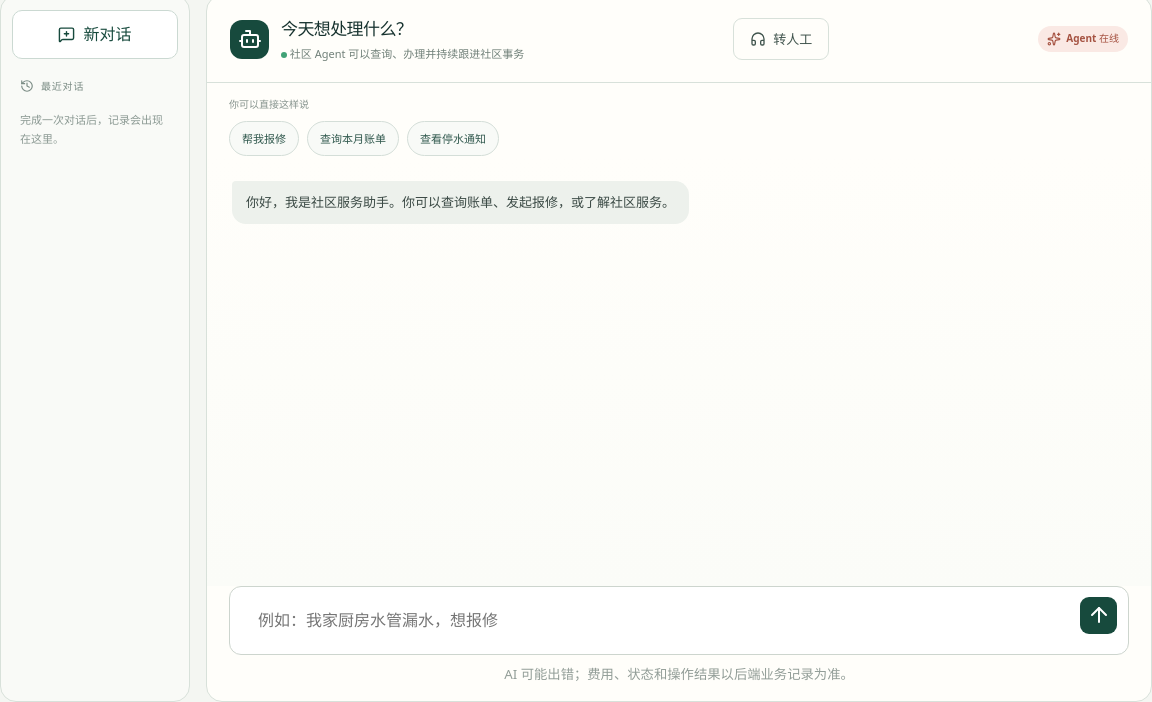
Test: Agent home flow › guides a new announcement through title, body, and audience
(page scrolled)
In the field named "发送给社区智能体": (658, 620) [246, 597, 1070, 644], type "我要发布公告"
Click the button named "发送": (1098, 615) [1080, 597, 1117, 634]
(page scrolled)
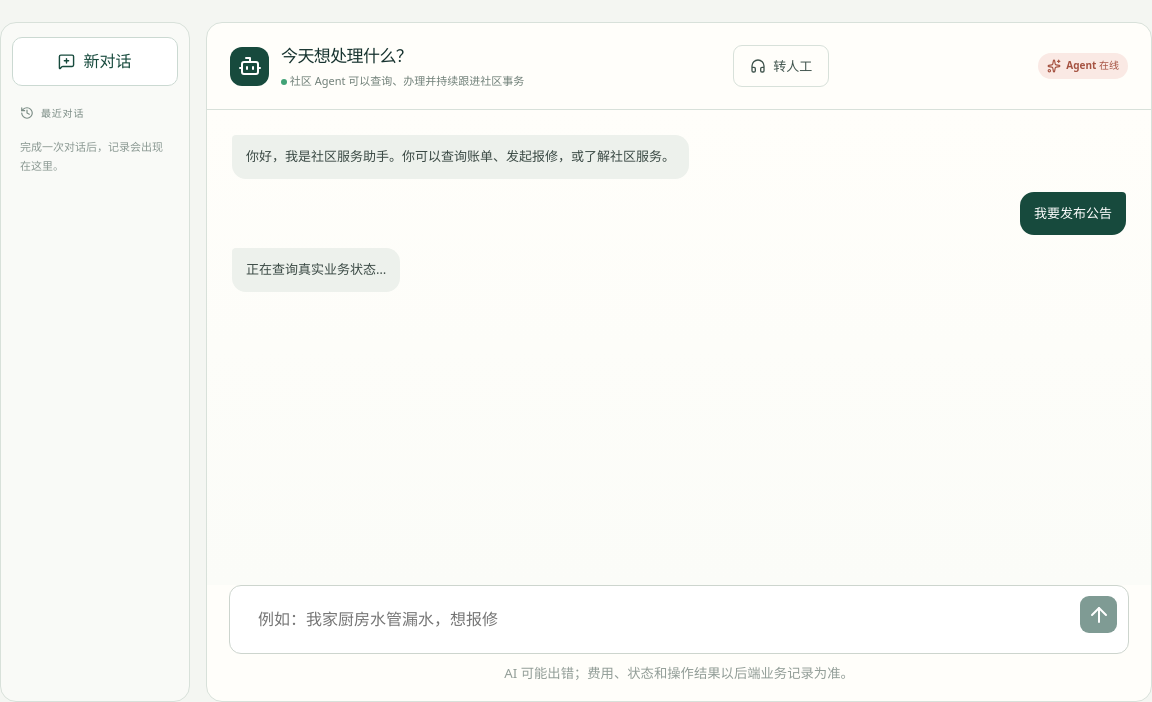
In the field named "发送给社区智能体": (658, 620) [246, 596, 1070, 643], type "1栋临时停水通知"
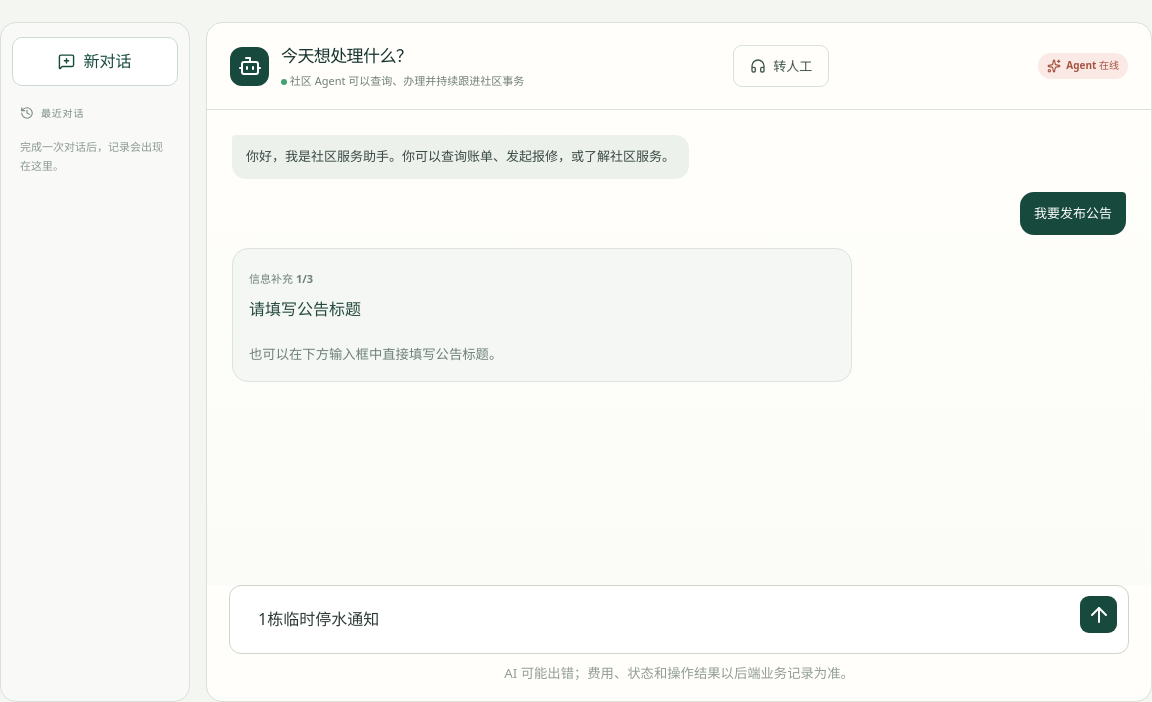
Click the button named "发送": (1098, 615) [1080, 596, 1117, 633]
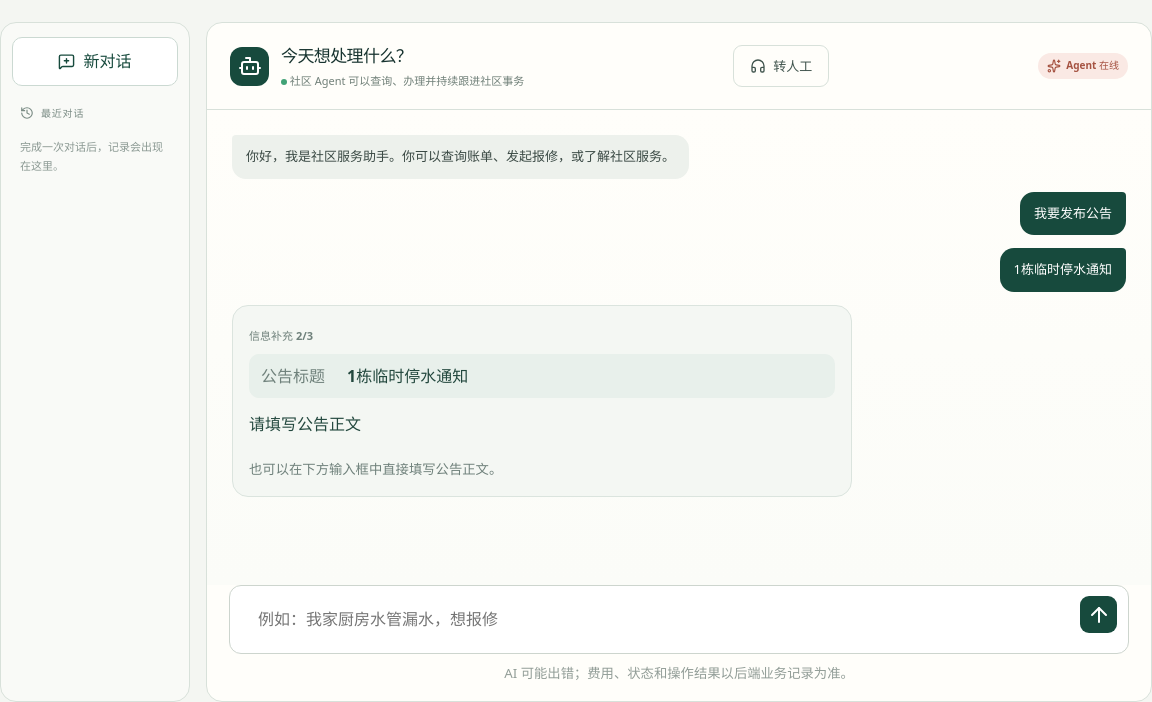
In the field named "发送给社区智能体": (658, 620) [246, 596, 1070, 643], type "今晚 22:00 至次日 06:00 停水"
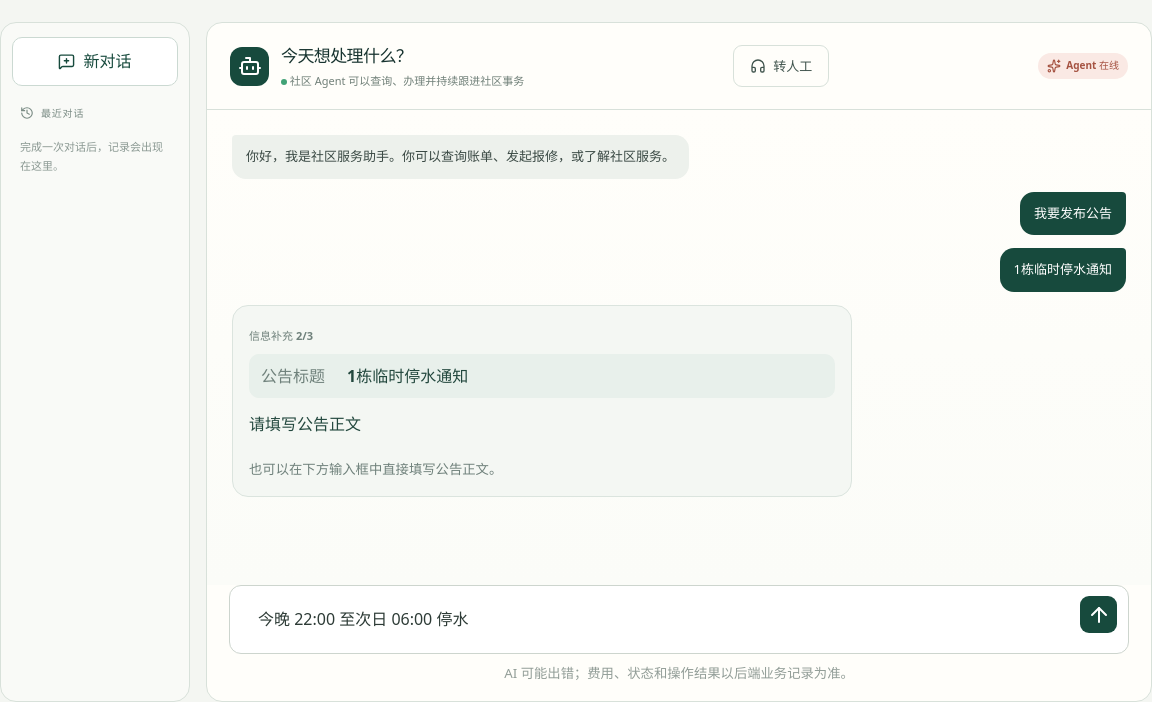
Click the button named "发送": (1098, 615) [1080, 596, 1117, 633]
(page scrolled)
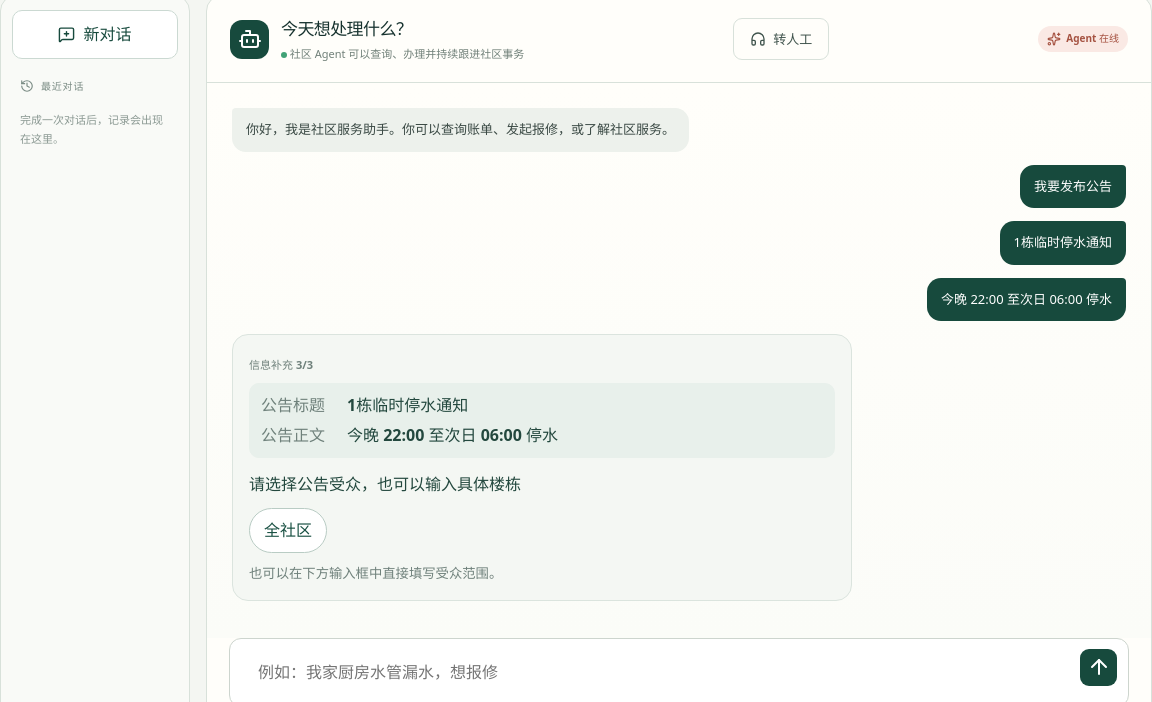
Click the button "全社区": (288, 531) [249, 508, 327, 553]
(page scrolled)
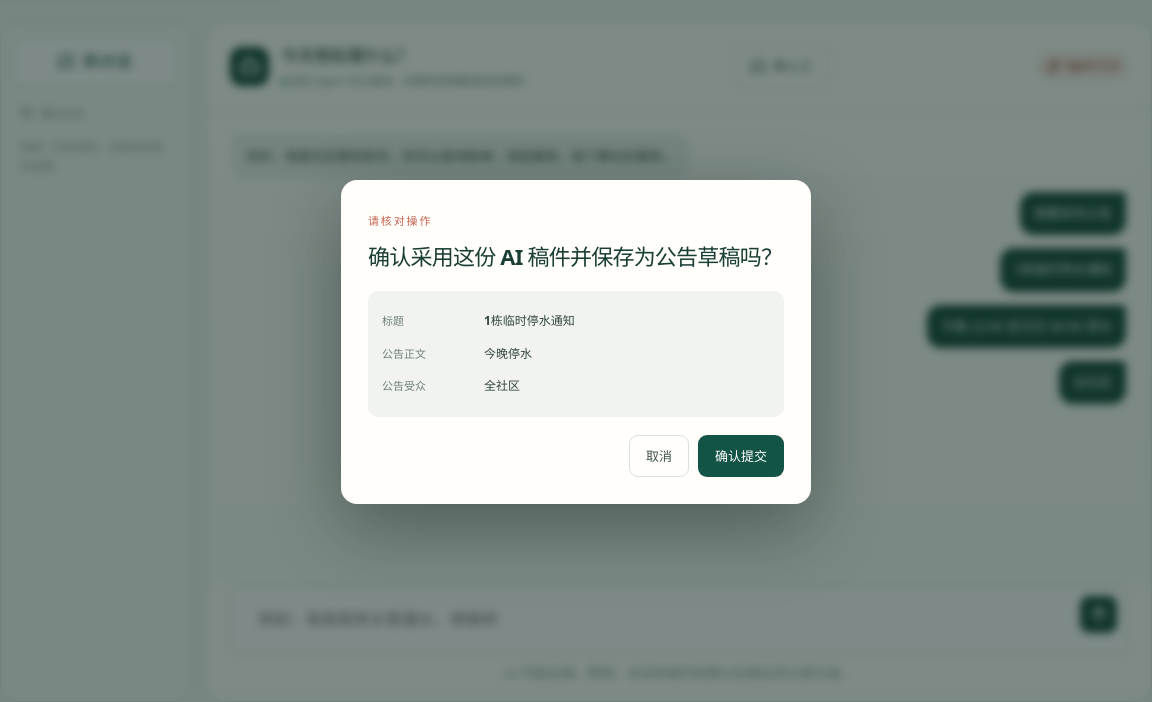
expect the heading "确认采用这份 AI 稿件并保存为公告草稿吗？" is shown: met, box [368, 239, 784, 273]
